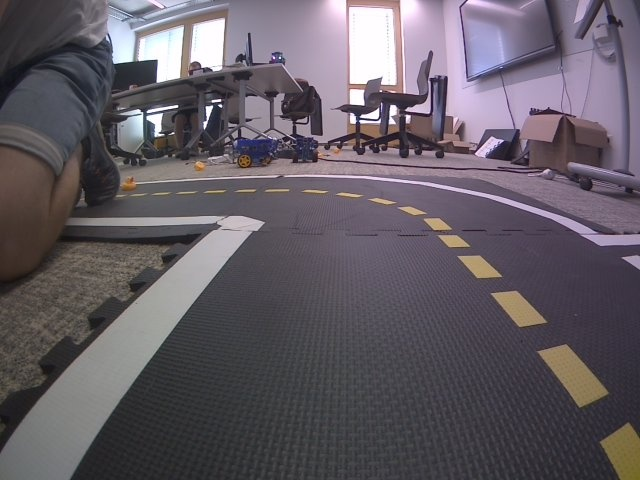Bot: (238, 139, 278, 168), (291, 136, 320, 163), (269, 50, 288, 63)
